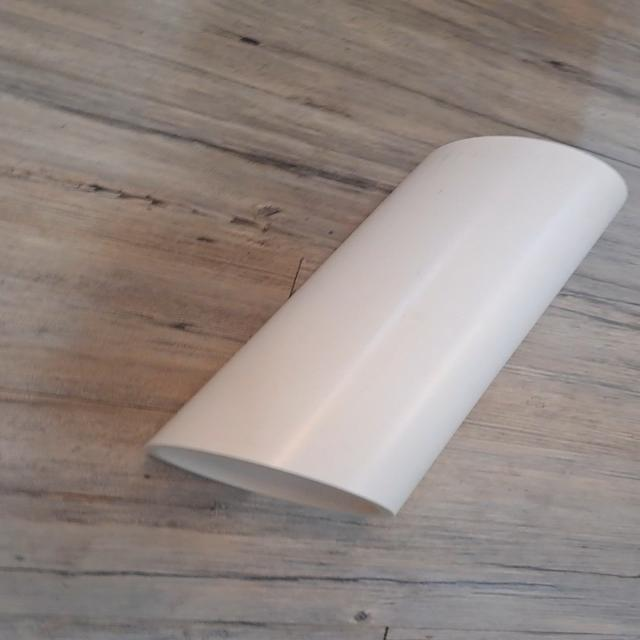CORAL: (149, 123, 634, 520)
